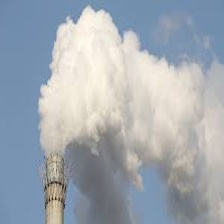smoke: (26, 16, 212, 160)
